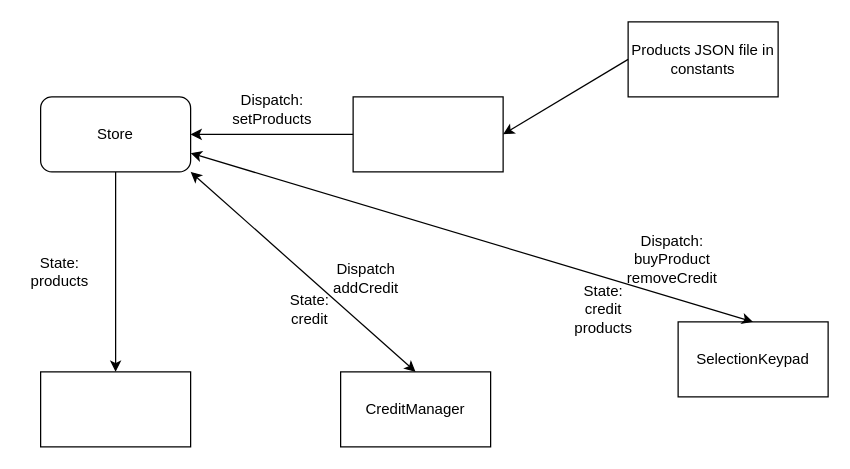
Image size: 850x469. Some labels were removed from this diagram. The box of each missing label's shape, as (x1, y1, x2, y2) in pixels:
ProductsList: (39, 371, 191, 447)
VendingMachine: (352, 96, 503, 172)
